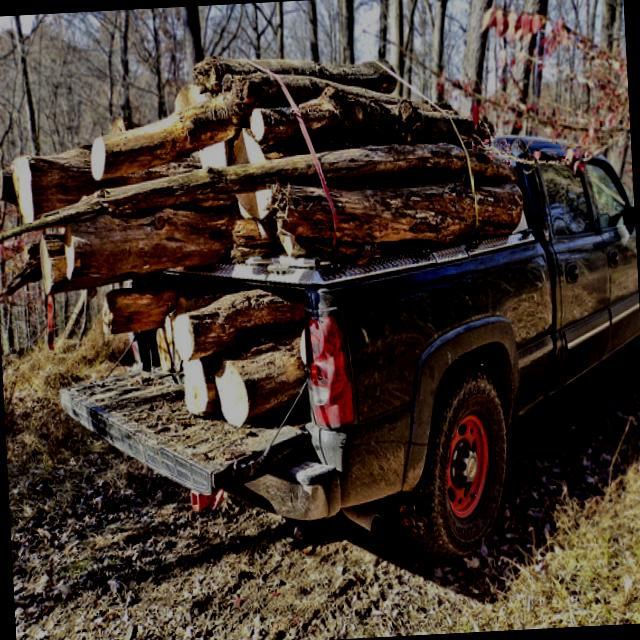Vehicle: (0, 34, 640, 589)
